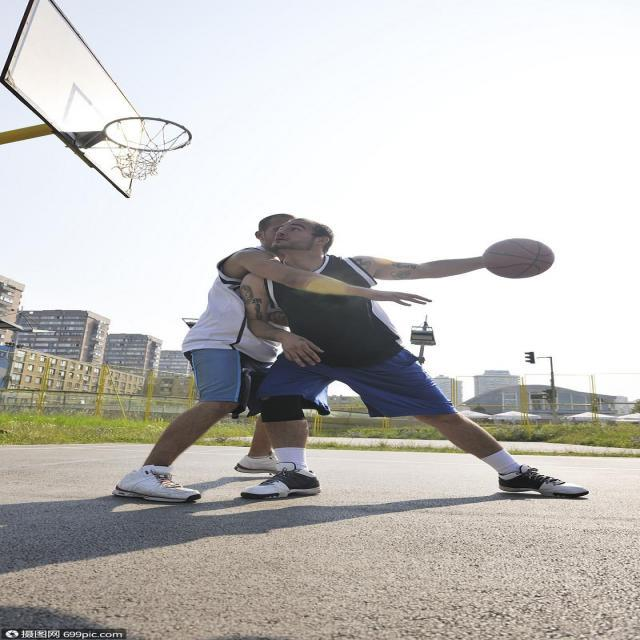rim: (482, 238, 556, 278)
